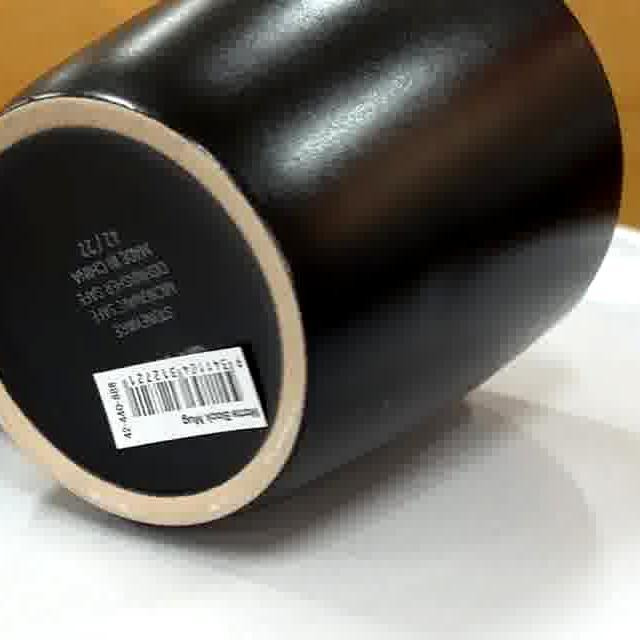cup: (0, 0, 623, 532)
